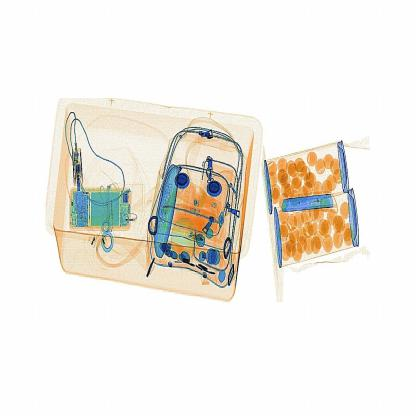pliers: (278, 185, 344, 220)
